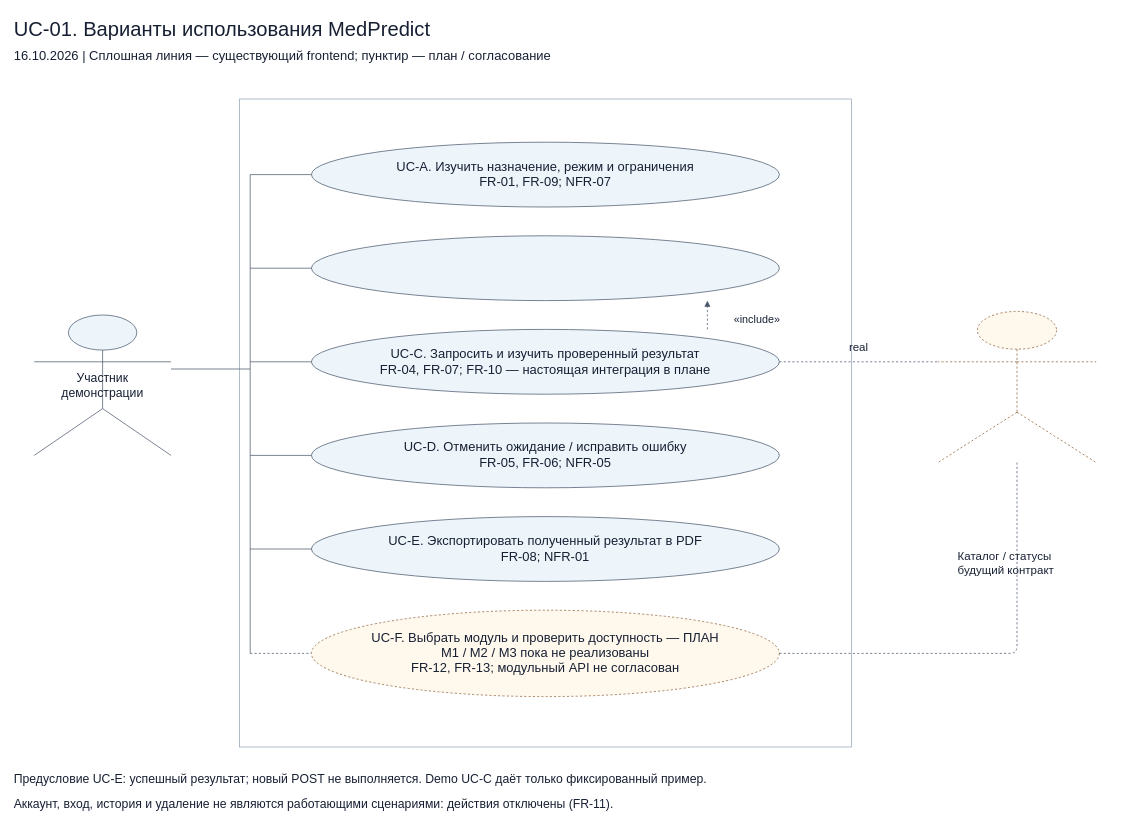
The diagram is 1133 pixels wide and 824 high, and some of its shapes have lost their labels. The box of each missing label's shape, as (x1, y1, x2, y2) in pixels:
UC-B. Ввести и проверить показатели FR-02, FR-03; NFR-02, NFR-03: (311, 235, 779, 301)
Пользовательский сценарий MedPredict: (239, 98, 851, 747)
Сервис прогноза Spring Boot — ПЛАН: (937, 311, 1096, 463)
